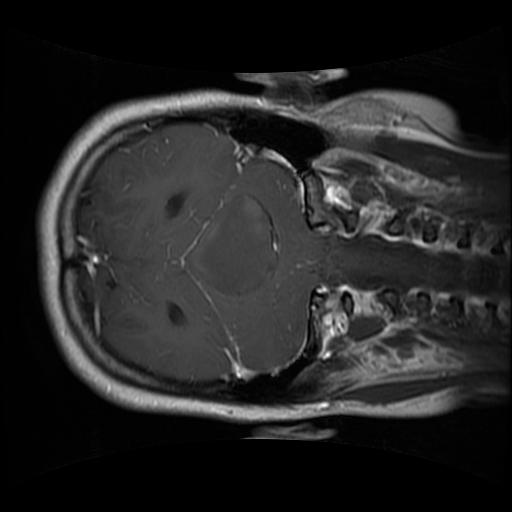glioma: (186, 190, 281, 301)
